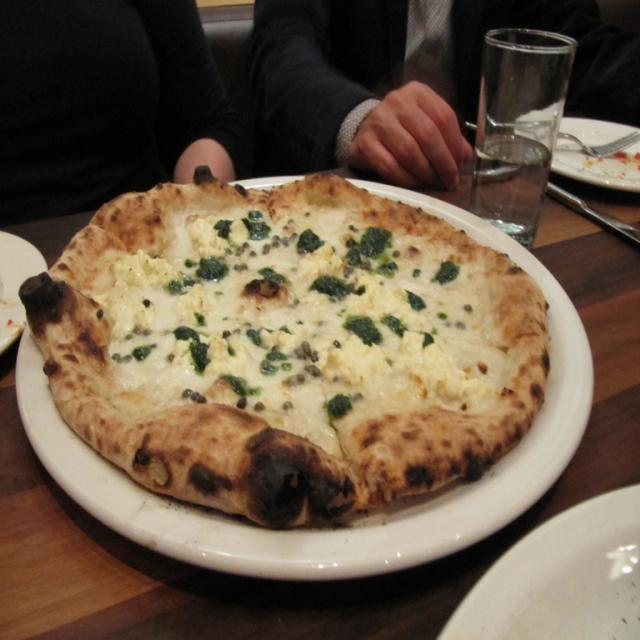Pizza: (11, 175, 548, 563)
